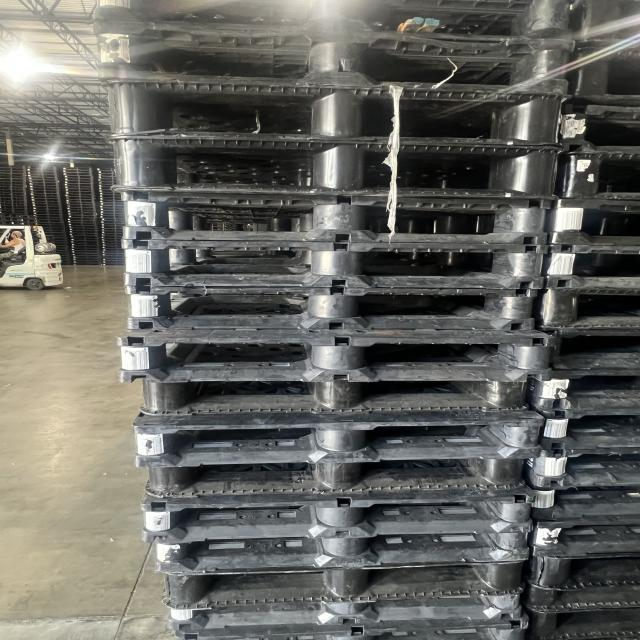igps: (84, 16, 580, 99), (99, 76, 576, 152), (100, 130, 568, 204), (108, 182, 557, 247), (129, 407, 549, 472), (134, 482, 542, 548), (113, 326, 559, 384), (117, 236, 554, 292), (152, 554, 530, 614), (88, 0, 579, 42), (123, 284, 539, 332), (148, 528, 532, 580), (136, 454, 531, 502), (158, 588, 528, 634), (137, 377, 530, 418), (173, 608, 534, 640), (538, 95, 640, 159), (512, 444, 640, 495), (523, 322, 640, 376), (553, 38, 640, 109), (535, 193, 640, 251), (543, 144, 640, 205), (526, 403, 640, 454), (535, 239, 640, 294), (527, 281, 640, 332), (519, 372, 640, 416), (514, 551, 640, 593), (525, 515, 640, 560), (514, 577, 640, 615), (525, 482, 640, 523), (515, 603, 640, 640), (556, 0, 640, 54), (25, 168, 58, 172), (25, 171, 58, 175), (62, 172, 94, 176), (26, 166, 58, 170), (28, 182, 60, 186), (32, 214, 64, 218), (0, 220, 21, 226), (65, 199, 96, 203), (30, 198, 61, 202), (31, 200, 62, 204), (64, 180, 94, 184), (64, 183, 94, 187), (64, 188, 94, 192), (66, 196, 96, 200), (66, 204, 96, 208), (30, 190, 60, 194), (30, 193, 60, 197), (34, 219, 64, 223), (0, 197, 28, 201), (0, 167, 27, 171), (0, 170, 27, 174), (0, 173, 27, 177), (0, 181, 27, 185), (0, 189, 27, 193), (0, 192, 27, 196), (0, 194, 27, 198), (0, 212, 21, 217), (0, 216, 21, 221), (100, 220, 126, 224), (0, 164, 26, 168), (0, 178, 26, 182), (19, 214, 36, 220), (64, 194, 96, 197), (68, 230, 100, 233), (26, 174, 58, 177), (28, 180, 60, 183), (34, 222, 66, 225), (19, 218, 38, 223), (62, 167, 93, 170), (62, 170, 93, 173), (63, 175, 94, 178), (66, 207, 97, 210), (67, 212, 98, 215), (67, 215, 98, 218), (67, 220, 98, 223), (67, 222, 98, 225), (68, 228, 99, 231), (71, 253, 102, 256), (72, 263, 103, 266), (29, 185, 60, 188), (29, 188, 60, 191), (30, 196, 61, 199), (31, 204, 62, 207), (32, 207, 63, 210), (32, 212, 63, 215), (64, 178, 94, 181), (64, 186, 94, 189), (65, 191, 95, 194), (66, 202, 96, 205), (67, 210, 97, 213), (69, 233, 99, 236), (70, 238, 100, 241), (70, 240, 100, 243), (71, 248, 101, 251), (28, 177, 58, 180), (34, 217, 64, 220), (36, 225, 66, 228), (71, 243, 100, 246), (0, 211, 29, 214), (101, 238, 122, 242), (0, 203, 28, 206), (0, 208, 28, 211), (0, 176, 27, 179), (0, 200, 27, 203), (96, 167, 116, 171), (98, 181, 118, 185), (18, 222, 38, 226), (99, 205, 125, 208), (100, 213, 126, 216), (100, 218, 126, 221), (0, 184, 26, 187), (0, 186, 26, 189), (98, 178, 117, 182), (100, 208, 125, 211), (100, 210, 125, 213), (101, 223, 126, 226), (100, 226, 125, 229), (100, 200, 124, 203), (100, 236, 124, 239), (102, 263, 126, 266), (43, 230, 67, 233), (44, 233, 68, 236), (99, 192, 122, 195), (99, 195, 122, 198), (101, 228, 124, 231), (102, 248, 125, 251), (102, 253, 125, 256), (102, 258, 125, 261), (46, 240, 69, 243), (101, 231, 123, 234), (101, 241, 122, 244), (101, 246, 122, 249), (67, 218, 98, 220), (68, 226, 99, 228), (72, 261, 103, 263), (32, 210, 63, 212), (70, 236, 100, 238), (70, 246, 100, 248), (71, 251, 101, 253), (72, 256, 102, 258), (72, 258, 102, 260), (97, 173, 117, 176), (98, 176, 118, 179), (98, 184, 118, 187), (0, 206, 28, 208), (98, 170, 116, 173), (100, 216, 126, 218), (60, 262, 73, 266), (100, 203, 124, 205), (100, 234, 124, 236), (102, 256, 126, 258), (102, 261, 126, 263), (42, 228, 66, 230), (44, 236, 68, 238), (53, 242, 69, 245), (54, 248, 70, 251), (99, 198, 122, 200), (102, 251, 125, 253), (55, 250, 70, 253), (46, 238, 68, 240), (61, 260, 72, 264), (101, 244, 122, 246), (98, 187, 111, 190), (60, 258, 72, 261), (98, 190, 115, 192), (56, 246, 70, 248), (56, 253, 70, 255), (60, 256, 71, 258)
